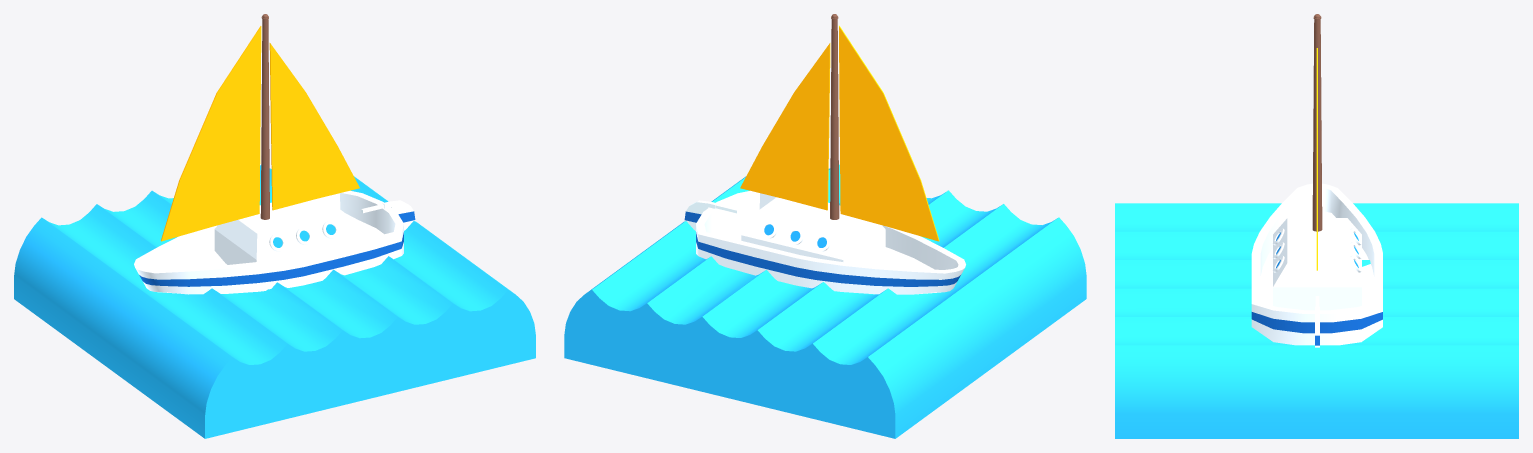
The model's file is sailboat.gltf.
3 views of the same model, side by side, from view 1: azimuth 30°, elevation 25°; view 2: azimuth 150°, elevation 25°; view 3: azimuth 270°, elevation 25° (orthographic). The views are drawn at different scales.
Parts seen in each view (by area): view 1: Cube.764; view 2: Cube.764; view 3: Cube.764.
Boxes of the visible parts, x1,y1,x2,y2 form: Cube.764: [14, 14, 535, 438]; Cube.764: [564, 14, 1086, 438]; Cube.764: [1115, 14, 1518, 438].
Bounding box in the file's own units: 2 × 1.84 × 2.
Materials: 1 (1 with a texture image).
